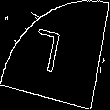L_S: (37, 26, 73, 84)
